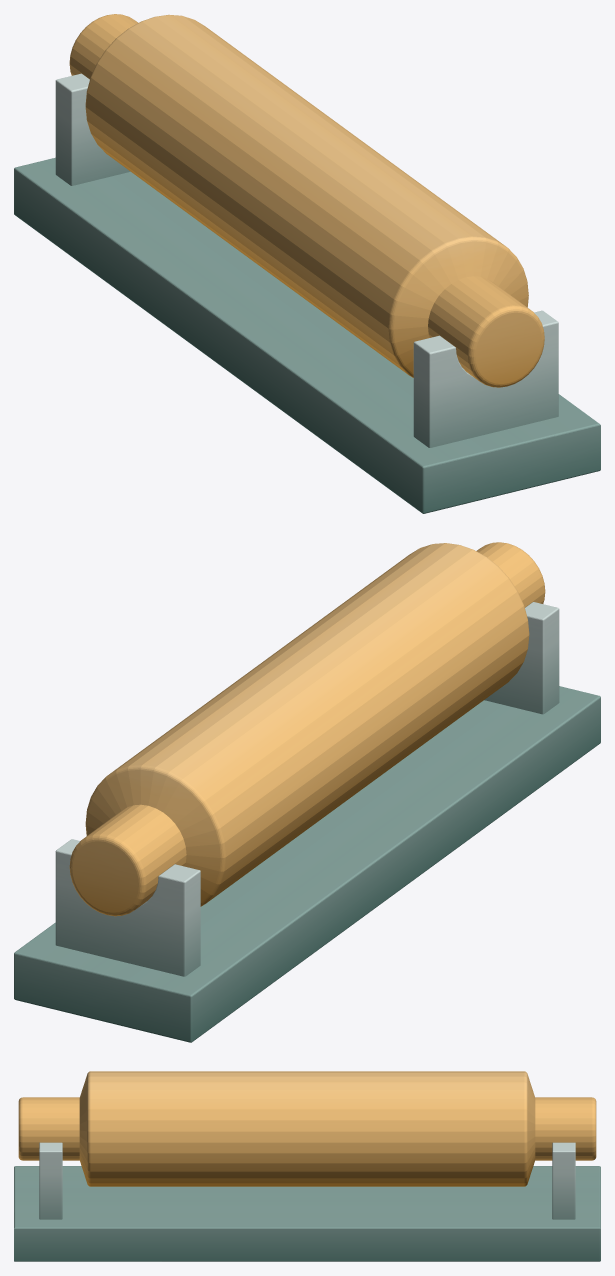
Rendered from rollingpin.fbx.
3 renders of one model, top to bottom at view 1: azimuth 30°, elevation 25°; view 2: azimuth 150°, elevation 25°; view 3: azimuth 270°, elevation 25°, orthographic. The views are drawn at different scales.
Visible parts, largest first — view 1: Rolling Pin, Cube; view 2: Rolling Pin, Cube; view 3: Rolling Pin, Cube.
Part boxes in pixels (x1,y1,x2,y2): Rolling Pin: [69, 14, 544, 387]; Cube: [14, 73, 600, 513]; Rolling Pin: [69, 542, 545, 916]; Cube: [14, 602, 600, 1042]; Rolling Pin: [18, 1071, 596, 1186]; Cube: [14, 1142, 600, 1261].
Bounding box in the file's own units: 8.86 × 10.25 × 35.31.
